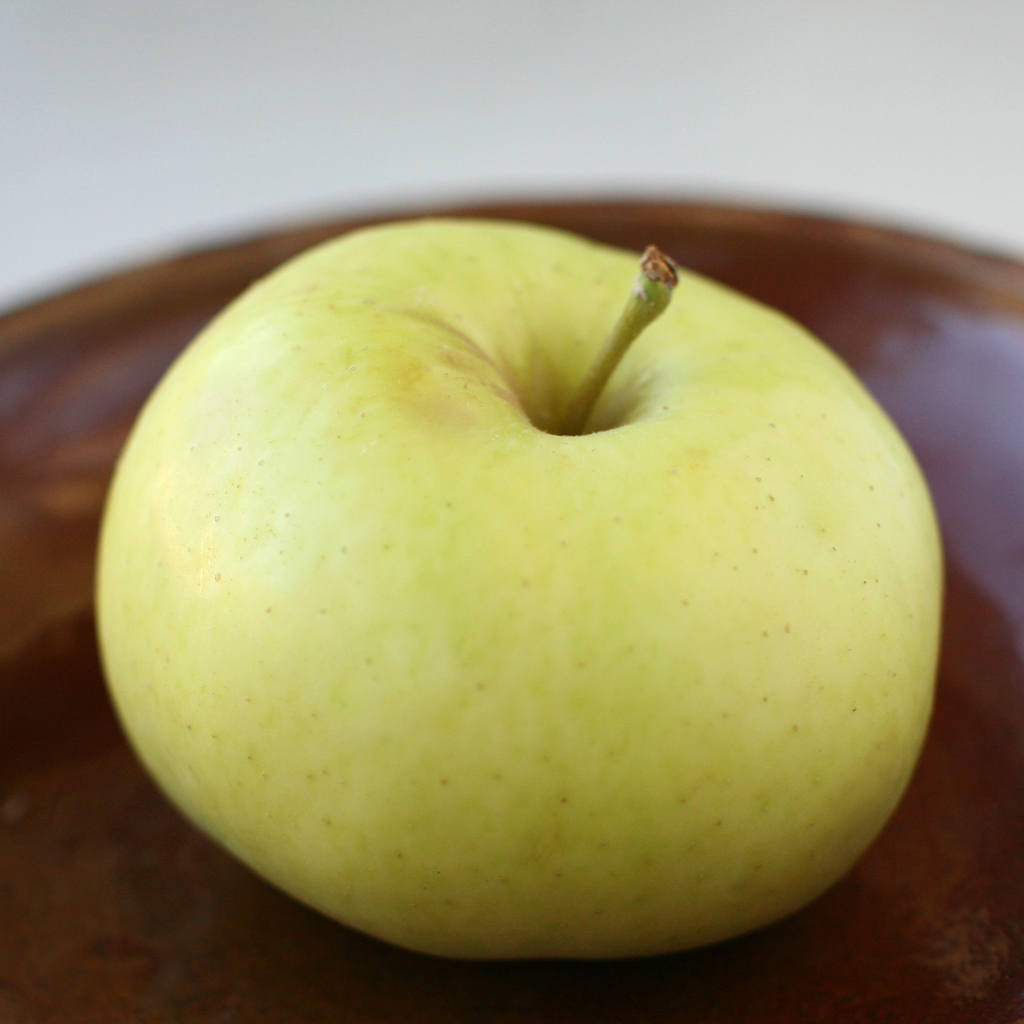Apple: (85, 231, 931, 986)
